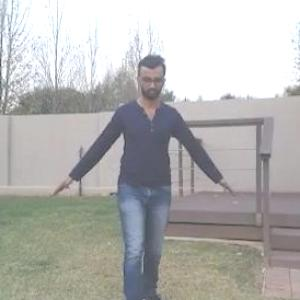land: (49, 55, 224, 299)
